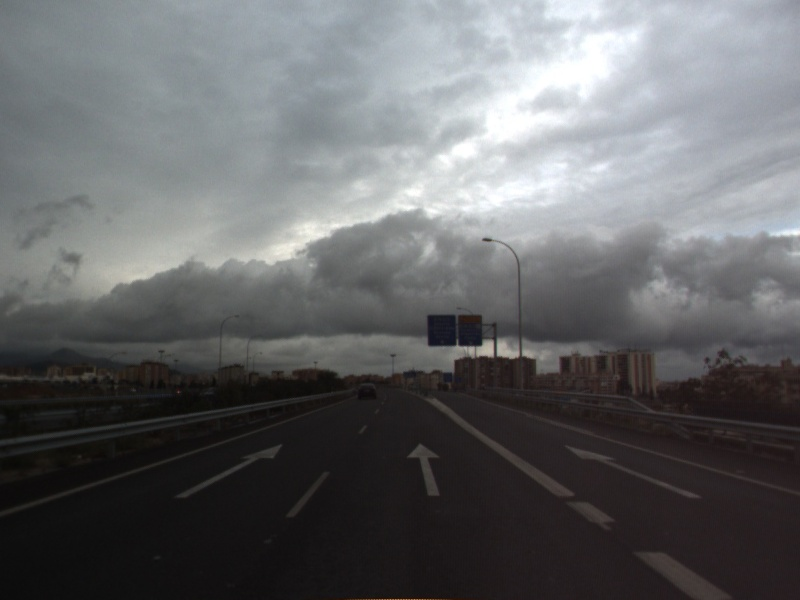STRAIGHT: (562, 443, 704, 501), (172, 442, 284, 500), (404, 441, 443, 498)
